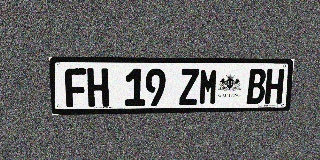1: (125, 68, 145, 106)
9: (146, 68, 166, 106)
B: (246, 69, 266, 104)
F: (64, 68, 87, 107)
H: (87, 68, 109, 107), (264, 69, 285, 104)
M: (198, 69, 219, 105)
Z: (179, 69, 199, 105)
